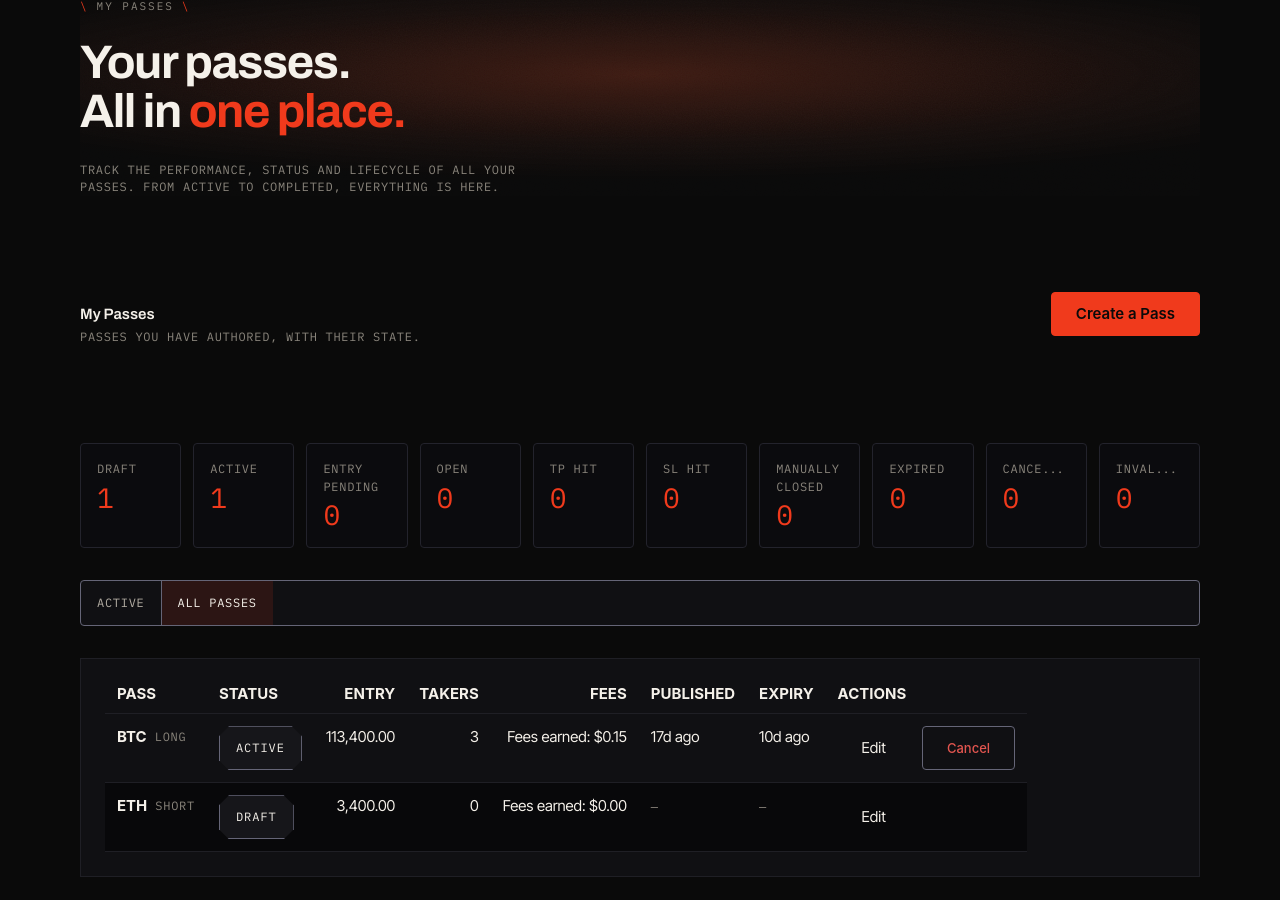
My Passes — author actions (Stage C) › keeps the Pass when the confirm is dismissed
Expected: the heading "My Passes" is shown, x1=80 y1=306 x2=155 y2=322
Click the button "Cancel": (968, 748) x1=922 y1=726 x2=1015 y2=770
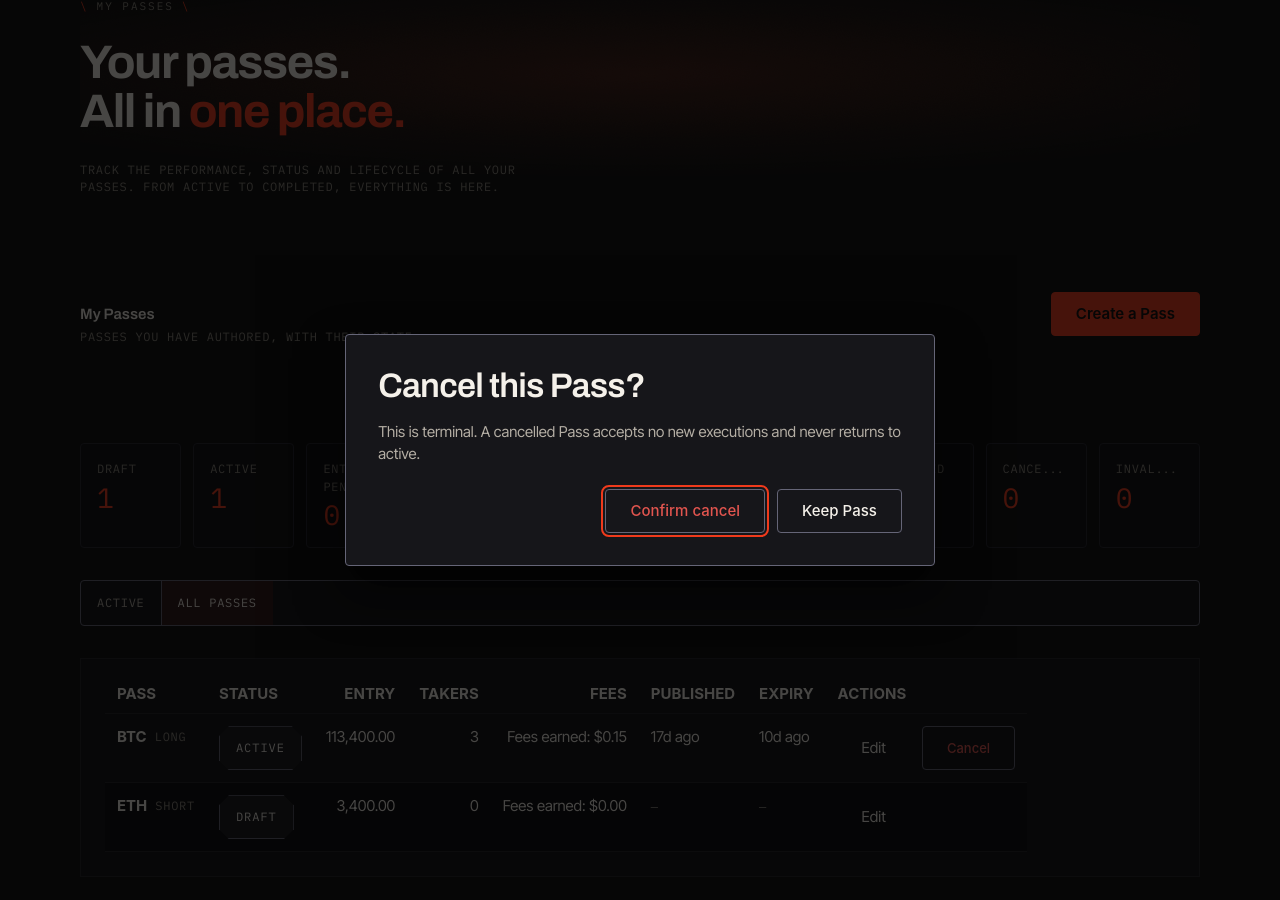
Now the dialog "Cancel this Pass?" is shown, box x1=345 y1=334 x2=935 y2=566
Click the button "Keep Pass": (839, 511) x1=777 y1=489 x2=902 y2=533
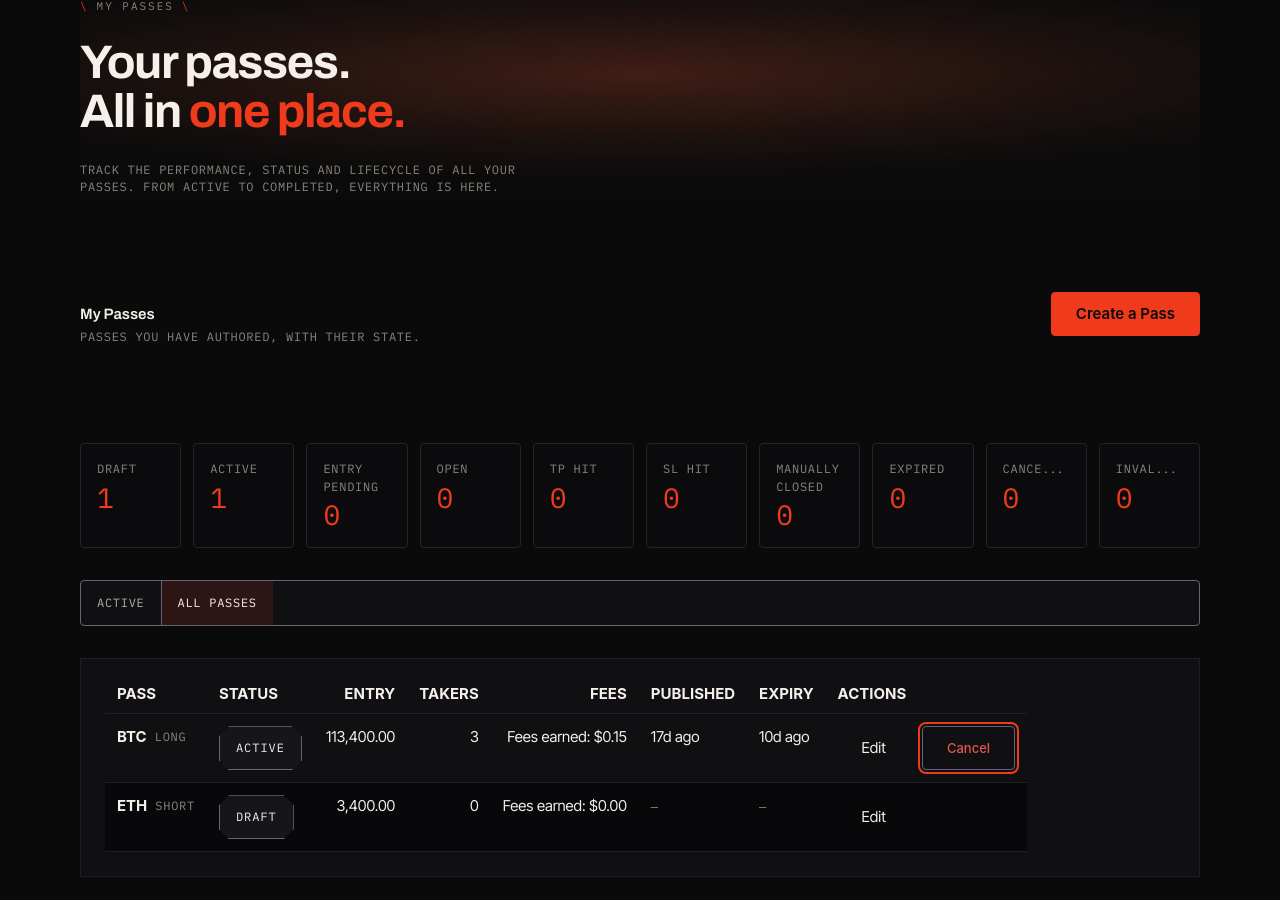
Now the dialog is gone
